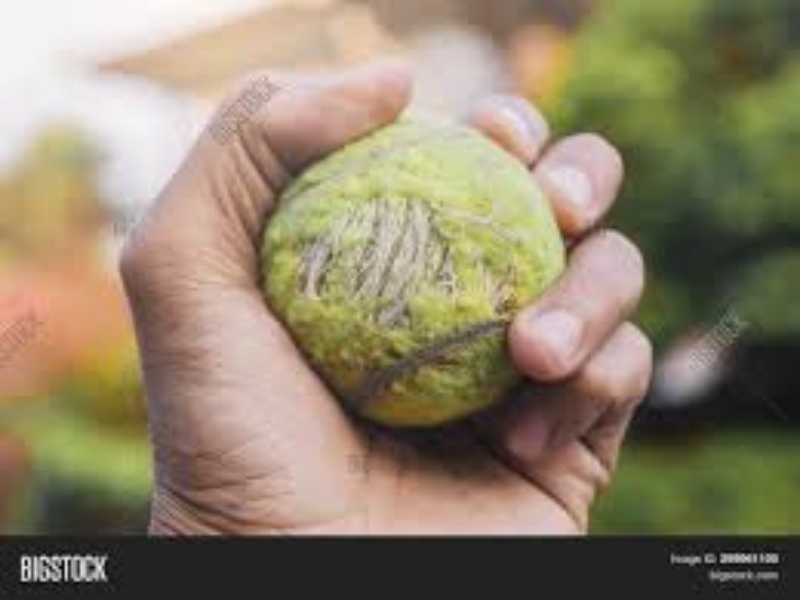tennis ball: (243, 111, 584, 411)
